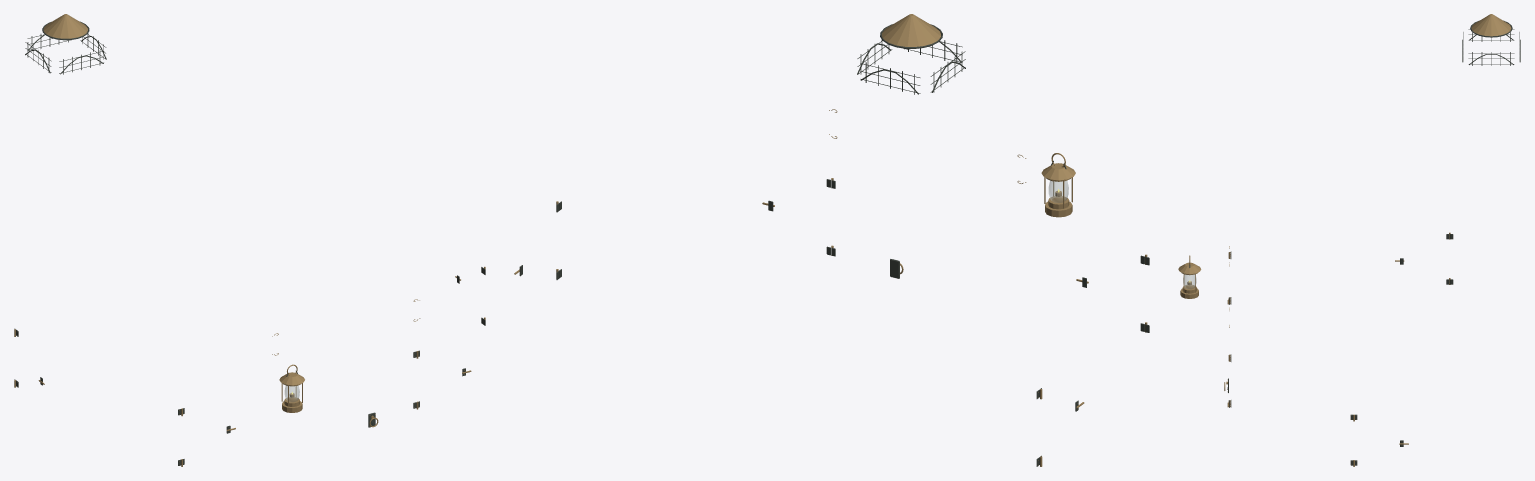
Rendered from cabin-parts.glb.
3 views of the same model, side by side, from view 1: azimuth 30°, elevation 25°; view 2: azimuth 150°, elevation 25°; view 3: azimuth 270°, elevation 25° (orthographic). The views are drawn at different scales.
Parts seen in each view (by area): view 1: chimney-cap-detail, porch-hanging-lamp, window-hardware; view 2: chimney-cap-detail, porch-hanging-lamp, window-hardware; view 3: chimney-cap-detail, porch-hanging-lamp, window-hardware.
Boxes of the visible parts, <box> form: chimney-cap-detail: <box>25,14,106,74</box>; porch-hanging-lamp: <box>279,364,304,412</box>; window-hardware: <box>14,266,485,466</box>; chimney-cap-detail: <box>857,14,965,94</box>; porch-hanging-lamp: <box>1041,153,1075,217</box>; window-hardware: <box>514,178,1149,466</box>; chimney-cap-detail: <box>1462,14,1520,65</box>; porch-hanging-lamp: <box>1178,255,1201,298</box>; window-hardware: <box>1227,232,1453,466</box>.
Size of the model in its own units: 4.85 by 3.79 by 3.83.
